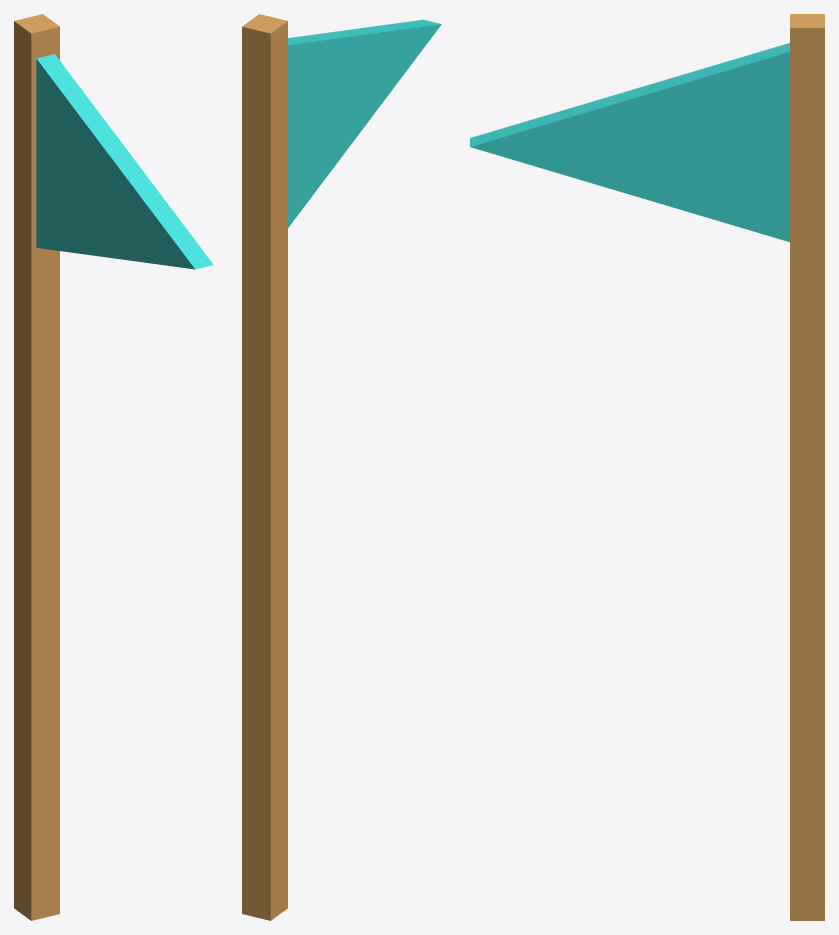
File: flag.fbx
3 renders of one model, left to right at view 1: azimuth 30°, elevation 25°; view 2: azimuth 150°, elevation 25°; view 3: azimuth 270°, elevation 25°, orthographic.
Parts seen in each view (by area): view 1: Cube, Cube.001; view 2: Cube, Cube.001; view 3: Cube.001, Cube.
Boxes of the visible parts, bbox=[...] form: Cube: bbox=[14, 14, 59, 920]; Cube.001: bbox=[36, 54, 213, 269]; Cube: bbox=[242, 14, 287, 920]; Cube.001: bbox=[288, 19, 441, 227]; Cube.001: bbox=[470, 43, 789, 242]; Cube: bbox=[790, 14, 824, 920].
Bounding box in the file's own units: 23.97 × 708 × 255.
